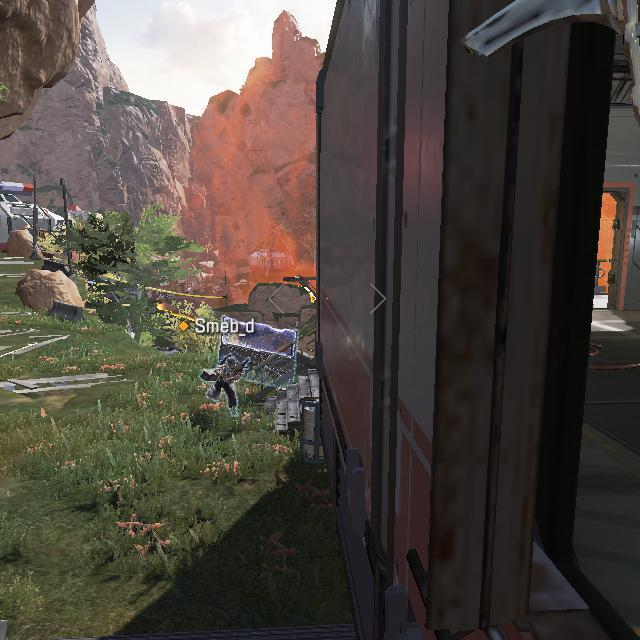avatar: (204, 354, 244, 419)
